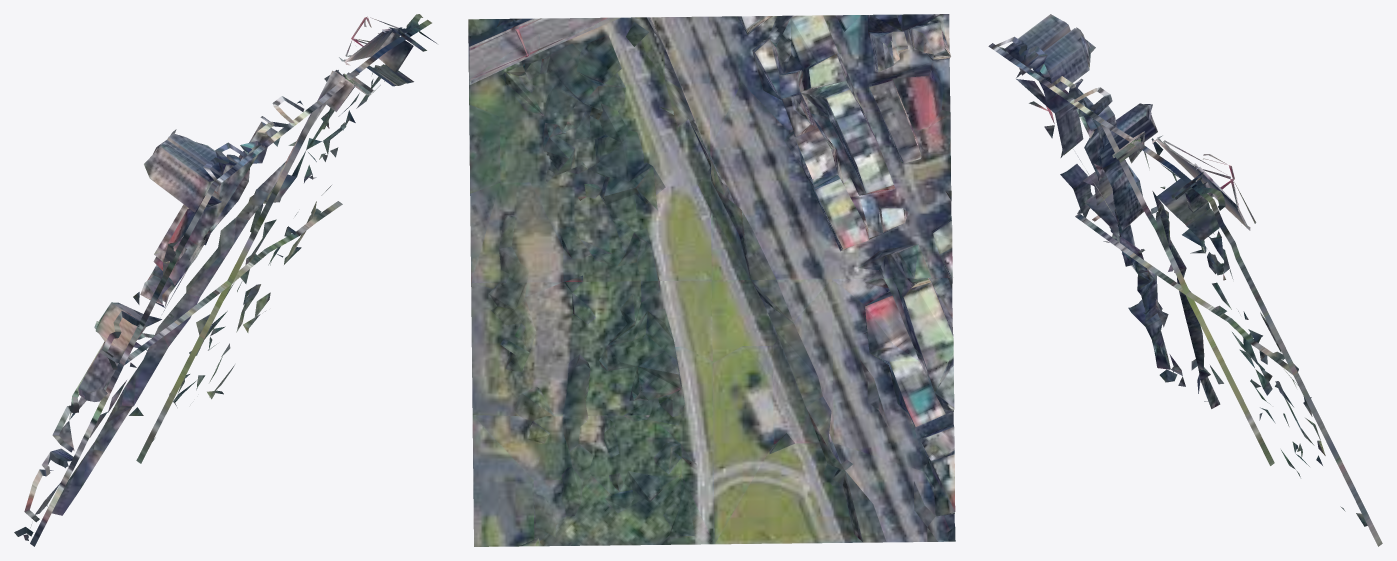
The picture shows the model from 3 angles, left to right: view 1: azimuth 30°, elevation 25°; view 2: azimuth 150°, elevation 25°; view 3: azimuth 270°, elevation 25°; orthographic projection. The views are drawn at different scales.
Bounding box in the file's own units: 315 × 292 × 255.
2 materials, 2 textured.
